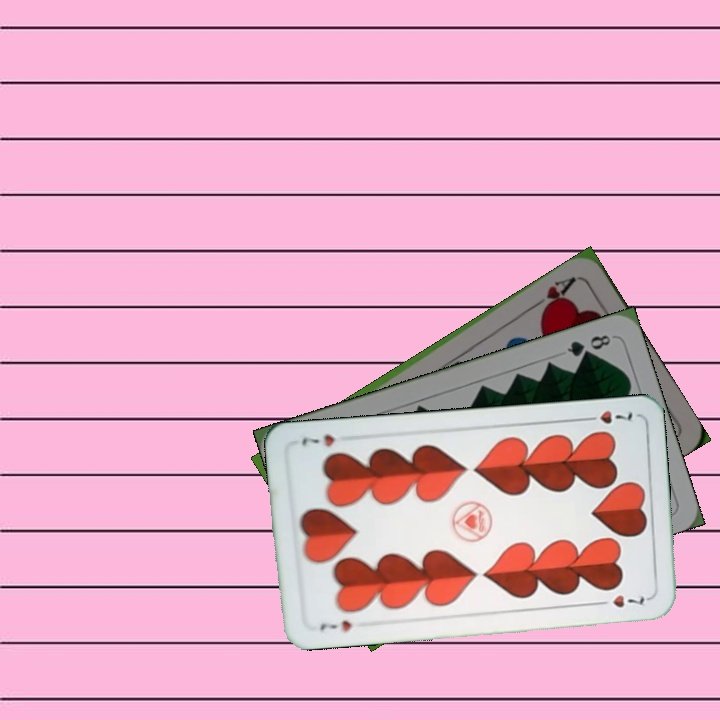G8: (563, 330, 616, 359)
H7: (578, 406, 635, 427), (316, 616, 354, 634)
HA: (528, 272, 579, 316)
